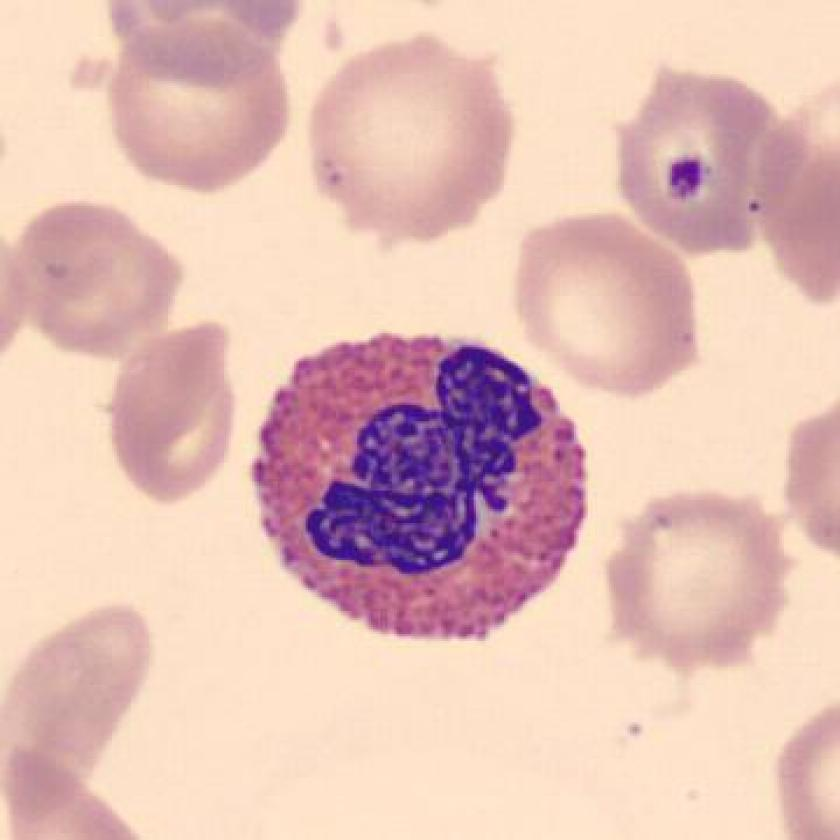eosinophil: (237, 311, 610, 658)
